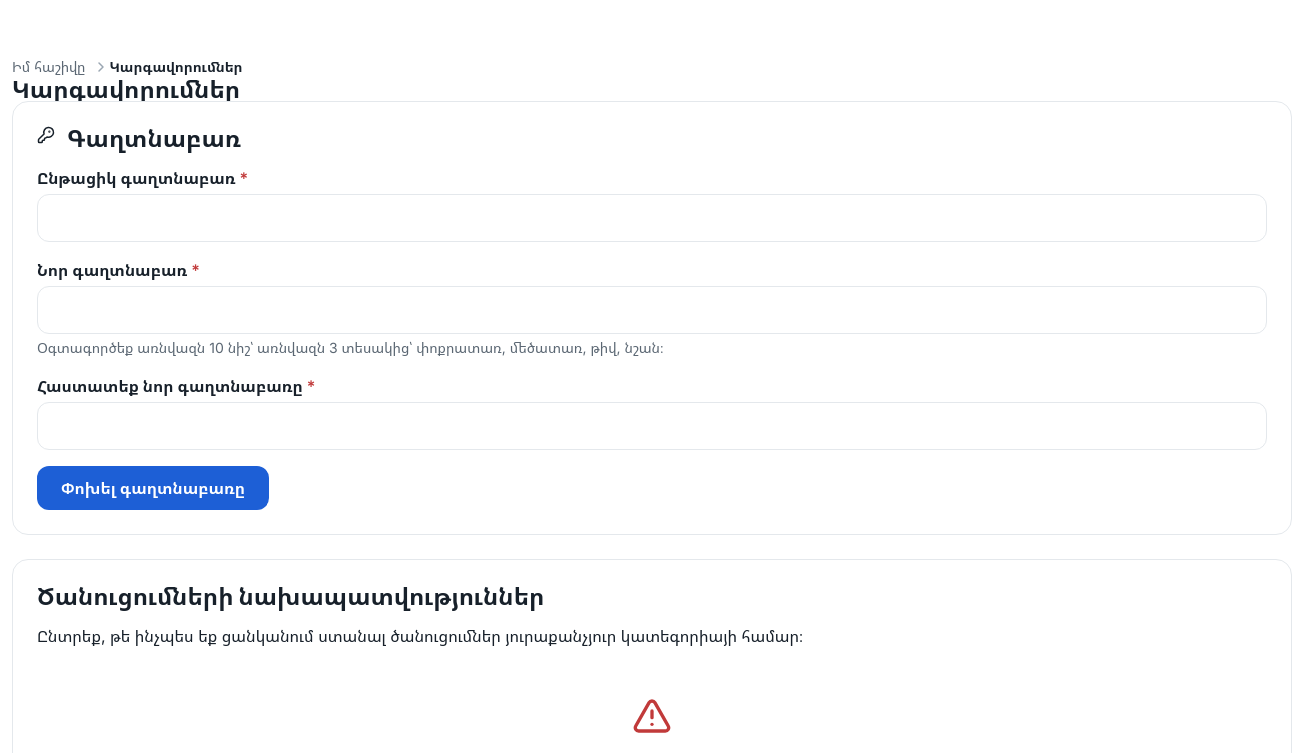
Test case: SettingsPageContent (apps/web/src/modules/profile) › a successful password change shows a success toast
This screenshot has width=1292, height=753.
Type "OldPass!2024" into the password field labelled "Ընթացիկ գաղտնաբառ *". click: (652, 218)
box: [54,195,1250,241]
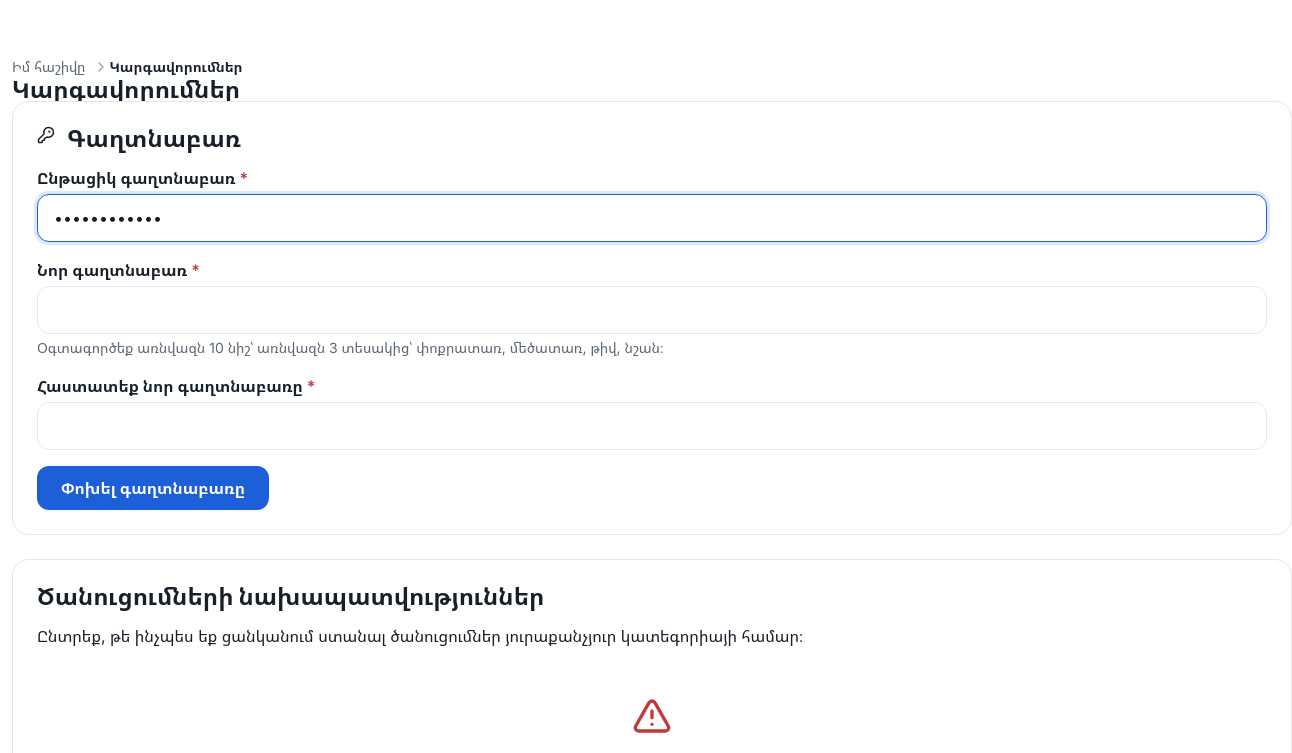
Type "NewStrongPass!2024" into the password field labelled "Նոր գաղտնաբառ *". click: (652, 310)
box: [54,287,1250,333]
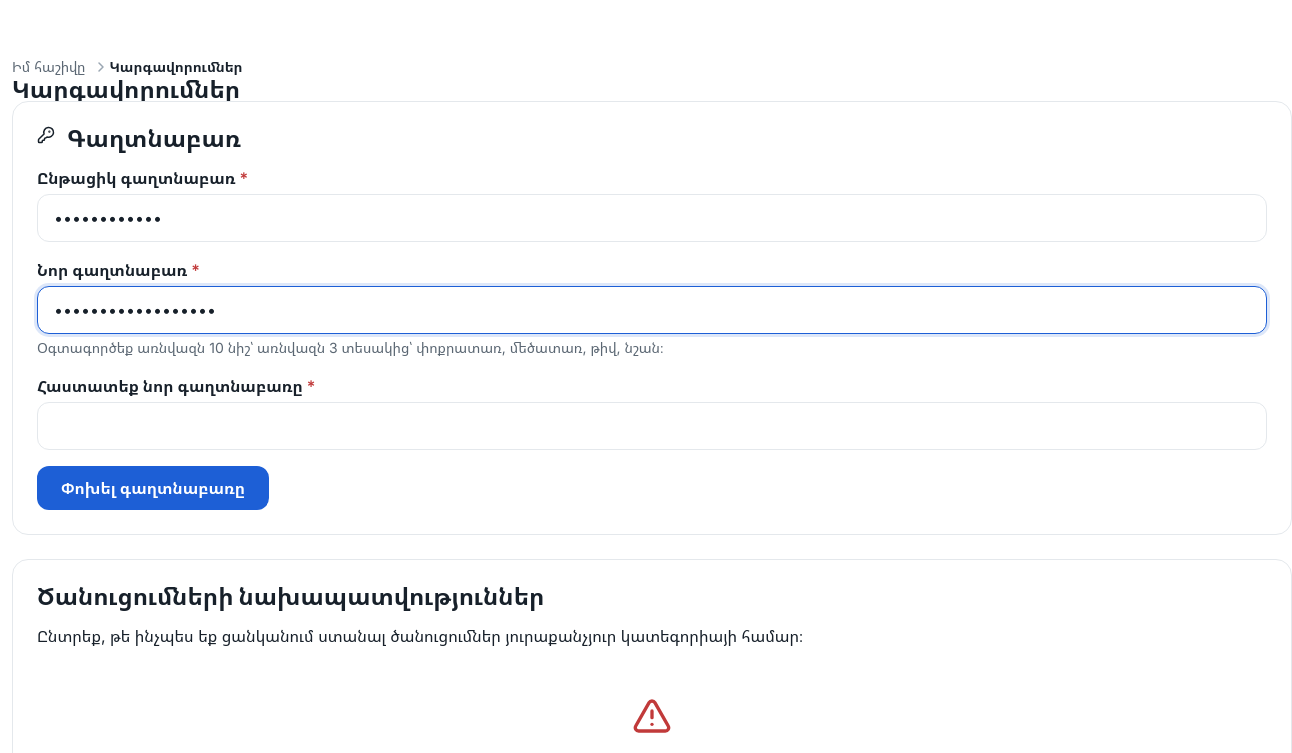
Type "NewStrongPass!2024" into the password field labelled "Հաստատեք նոր գաղտնաբառը *". click: (652, 426)
box: [54,403,1250,449]
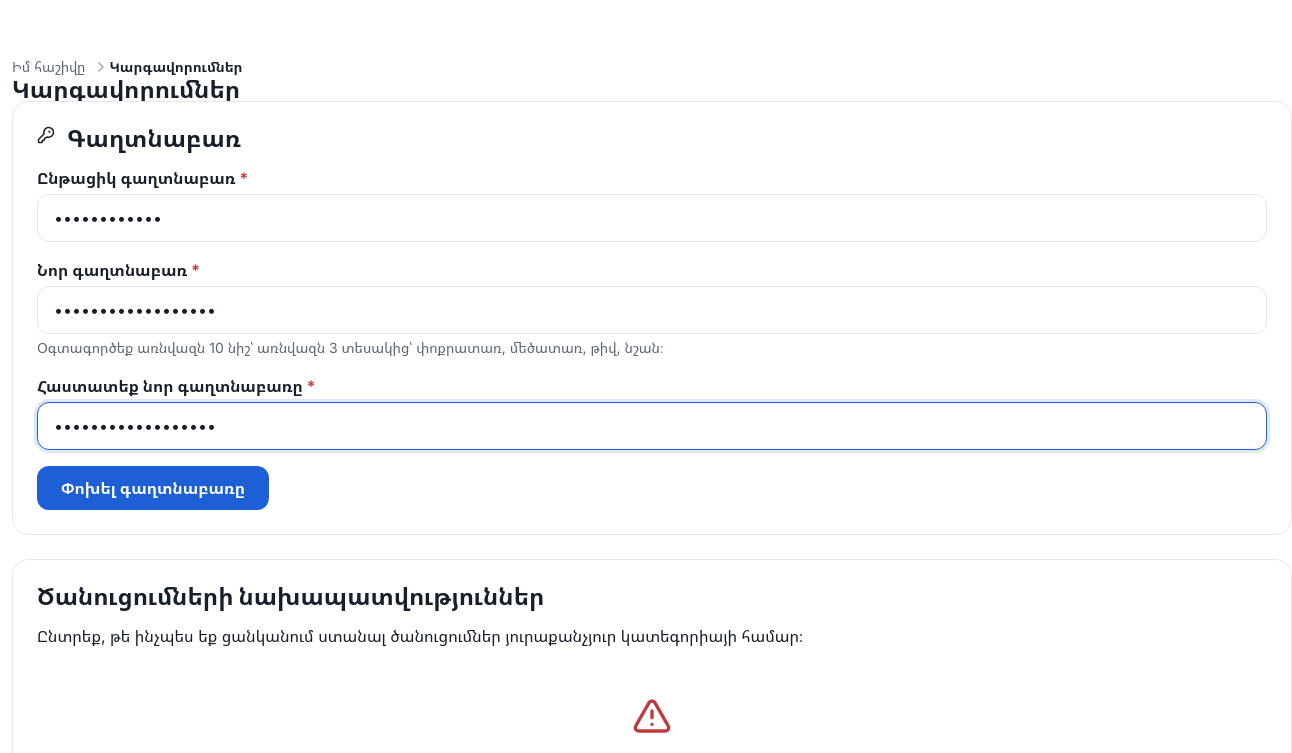
Click the button "Փոխել գաղտնաբառը". click: (153, 488)
box: [37,466,269,510]
(page scrolled)
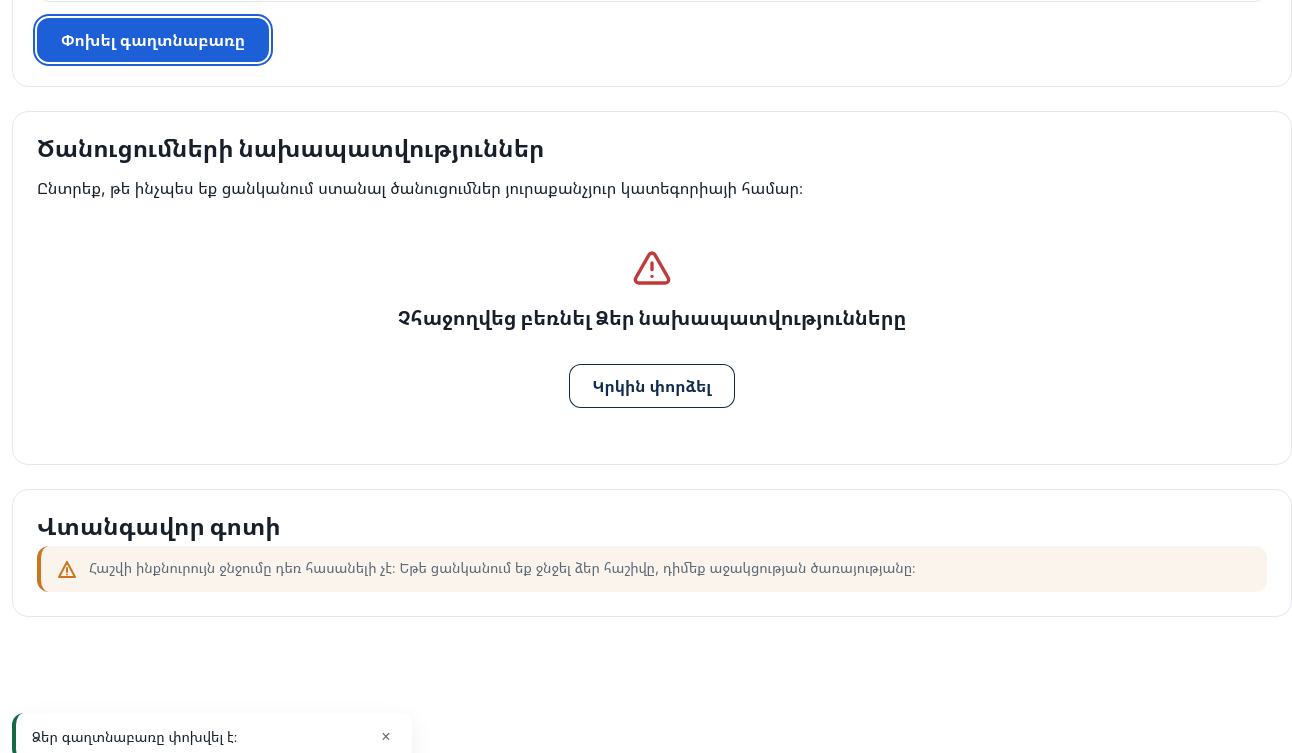
Now the text "Ձեր գաղտնաբառը փոխվել է։" is shown, box [32,728,237,745]
